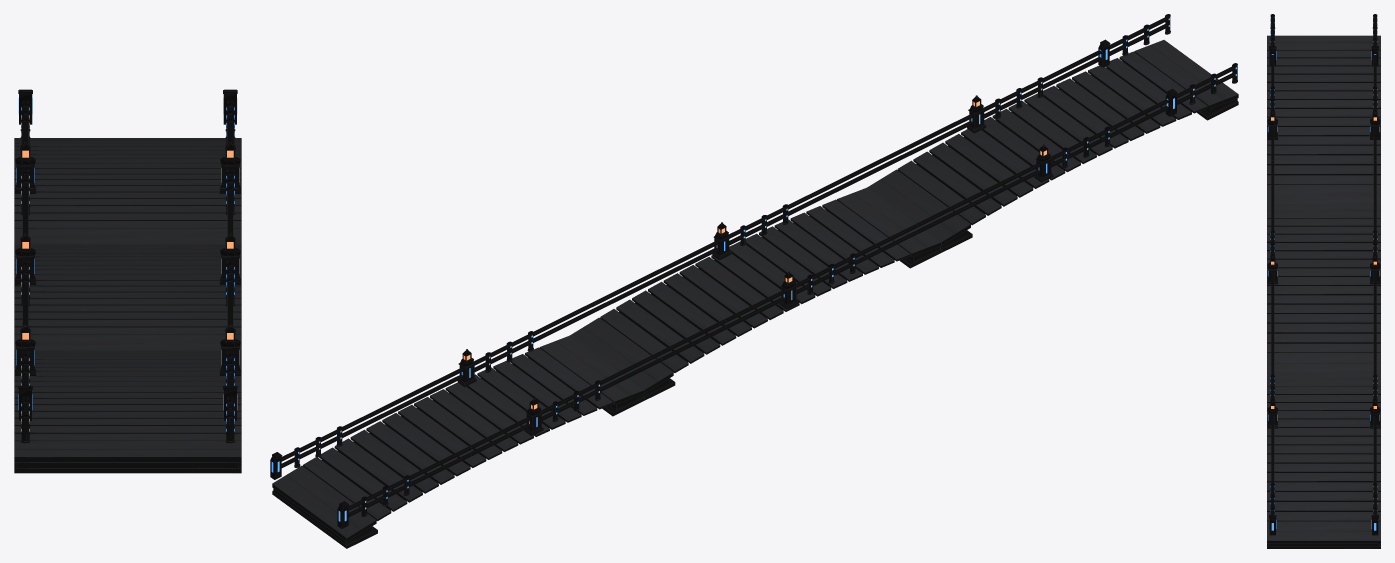
The model's file is bridge_projects_workshop.glb.
3 renders of one model, left to right at view 1: azimuth 90°, elevation 25°; view 2: azimuth 210°, elevation 25°; view 3: azimuth 270°, elevation 25°, orthographic. The views are drawn at different scales.
Visible parts, largest first — view 1: bridge; view 2: bridge; view 3: bridge.
Part boxes in pixels (x1=…): bridge: x1=14, y1=89, x2=241, y2=473; bridge: x1=270, y1=14, x2=1238, y2=548; bridge: x1=1267, y1=14, x2=1380, y2=548.
Bounding box in the file's own units: 13.91 × 3.92 × 2.
5 materials, 3 textured.
